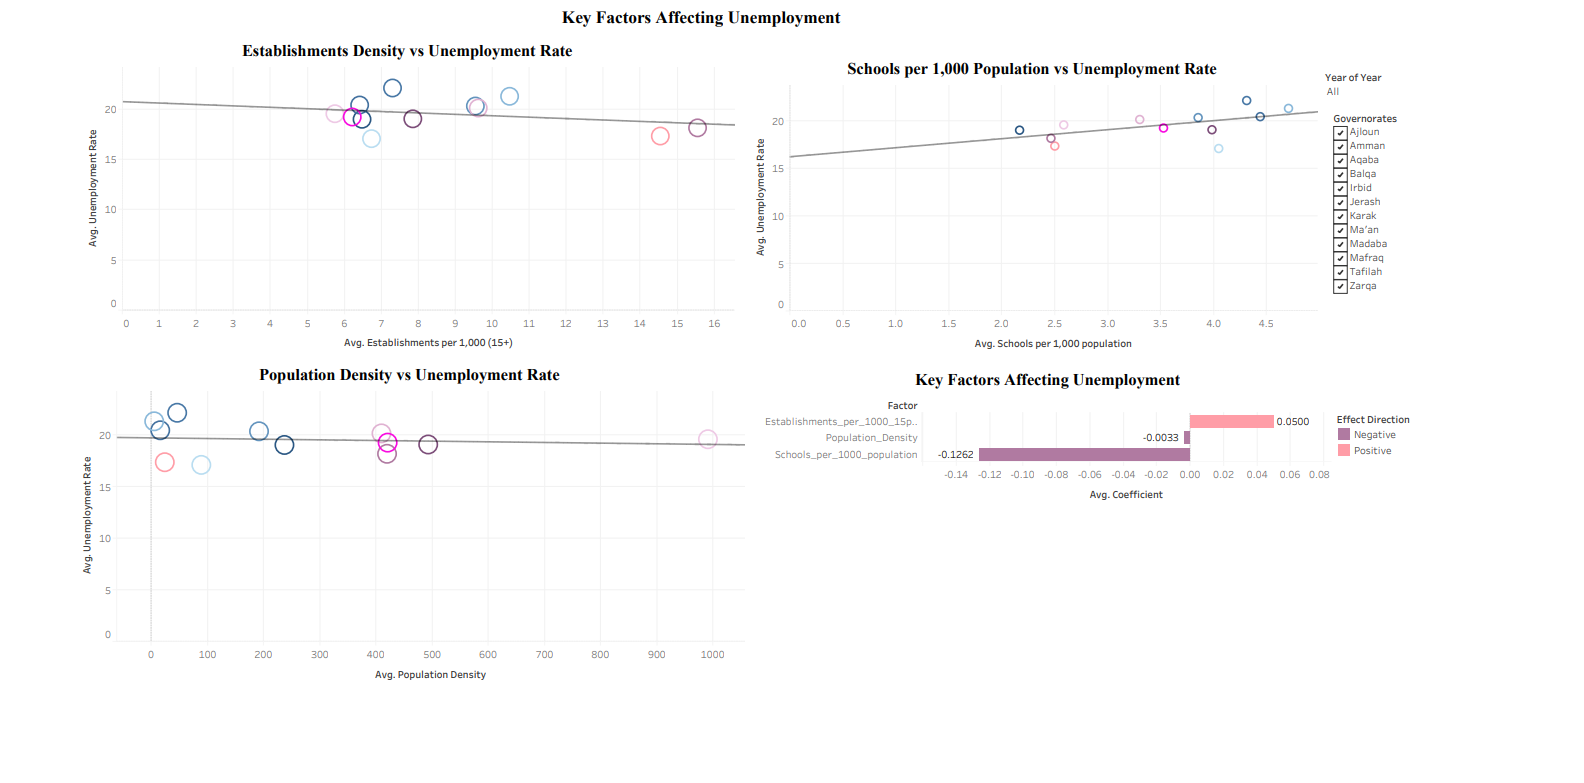

Layout of this report page (visuals, bound fields, positions):
{"tool":"tableau","page":{"name":"Key Factors Affecting Unemployment","canvas":[1700,850],"ordinal":0},"visuals":[{"type":"text","box":[11,0,1508,62]},{"type":"worksheet","title":"Establishments Density","mark":"Automatic","rows":["Unemployment Rate"],"cols":["Establishments per 1,000 (15+)"],"box":[7,54,799,389]},{"type":"worksheet","title":"Schools per 1,000 Population","mark":"Automatic","rows":["Unemployment Rate"],"cols":["Schools per 1,000 population"],"box":[821,76,695,368]},{"type":"filter","title":"Establishments Density","param":"[federated.0denw6l17dq23i15ebn3p0buijx1].[yr:YEAR:ok]","box":[1526,95,178,52]},{"type":"filter","title":"Establishments Density","param":"[federated.0denw6l17dq23i15ebn3p0buijx1].[none:Governorates:nk]","box":[1536,144,160,271]},{"type":"worksheet","title":"Population Density","mark":"Automatic","rows":["Unemployment Rate"],"cols":["Population Density"],"box":[0,449,818,398]},{"type":"worksheet","title":"Key Factors Affecting","mark":"Bar","rows":["F1"],"cols":["F2"],"box":[842,455,691,396]},{"type":"legend","title":"Key Factors Affecting","param":"[federated.0denw6l17dq23i15ebn3p0buijx1].[none:Calculation_1136596019877470208:n","box":[1539,511,162,69]}]}

Visuals, with their boxes in screenshot pixels (x1, y1, x2, y2), scaled from the page's 1700x850 canvas onto the 1584x783 screenshot:
text: Rect(10, 0, 1415, 57)
"Establishments Density" worksheet: Rect(7, 50, 751, 408)
"Schools per 1,000 Population" worksheet: Rect(765, 70, 1413, 409)
"Establishments Density" filter: Rect(1422, 88, 1583, 135)
"Establishments Density" filter: Rect(1431, 133, 1580, 382)
"Population Density" worksheet: Rect(0, 414, 762, 780)
"Key Factors Affecting" worksheet (Bar marks): Rect(785, 419, 1428, 782)
"Key Factors Affecting" legend: Rect(1434, 471, 1583, 534)
